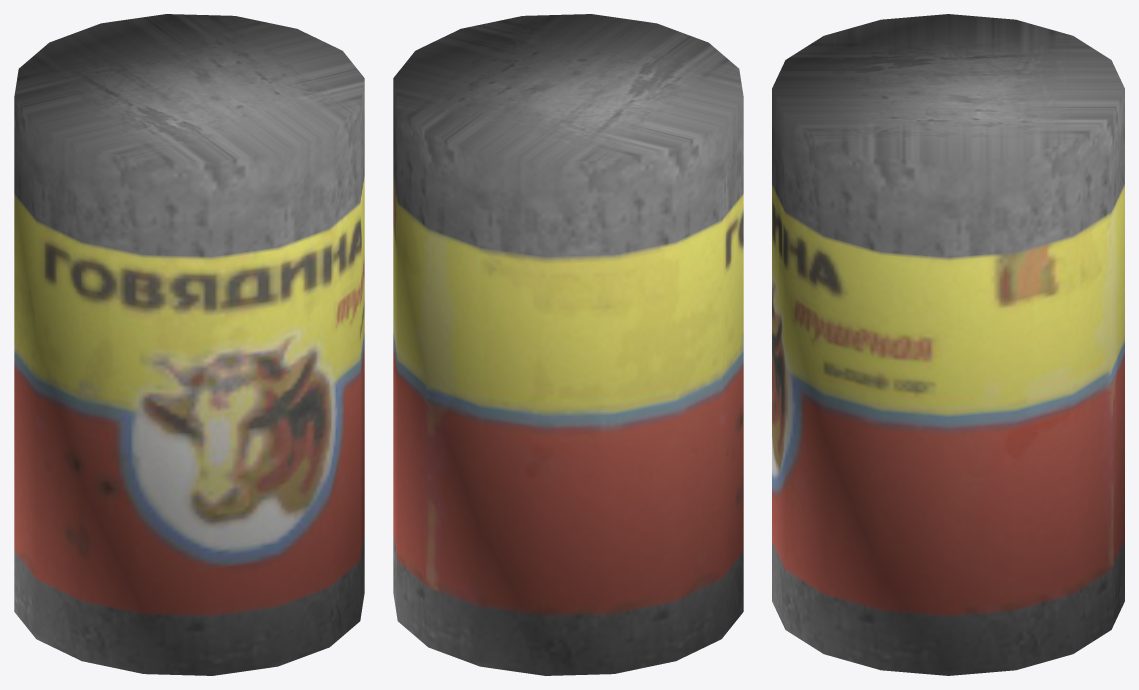
The model's file is tin1.fbx.
3 renders of one model, left to right at view 1: azimuth 30°, elevation 25°; view 2: azimuth 150°, elevation 25°; view 3: azimuth 270°, elevation 25°, orthographic.
Visible parts, largest first — view 1: Tin1; view 2: Tin1; view 3: Tin1.
Part boxes in pixels (<box>): Tin1: <box>14,14,364,675</box>; Tin1: <box>393,14,743,675</box>; Tin1: <box>772,14,1124,675</box>.
Bounding box in the file's own units: 200 × 321 × 200.
Materials: 1 (1 with a texture image).
